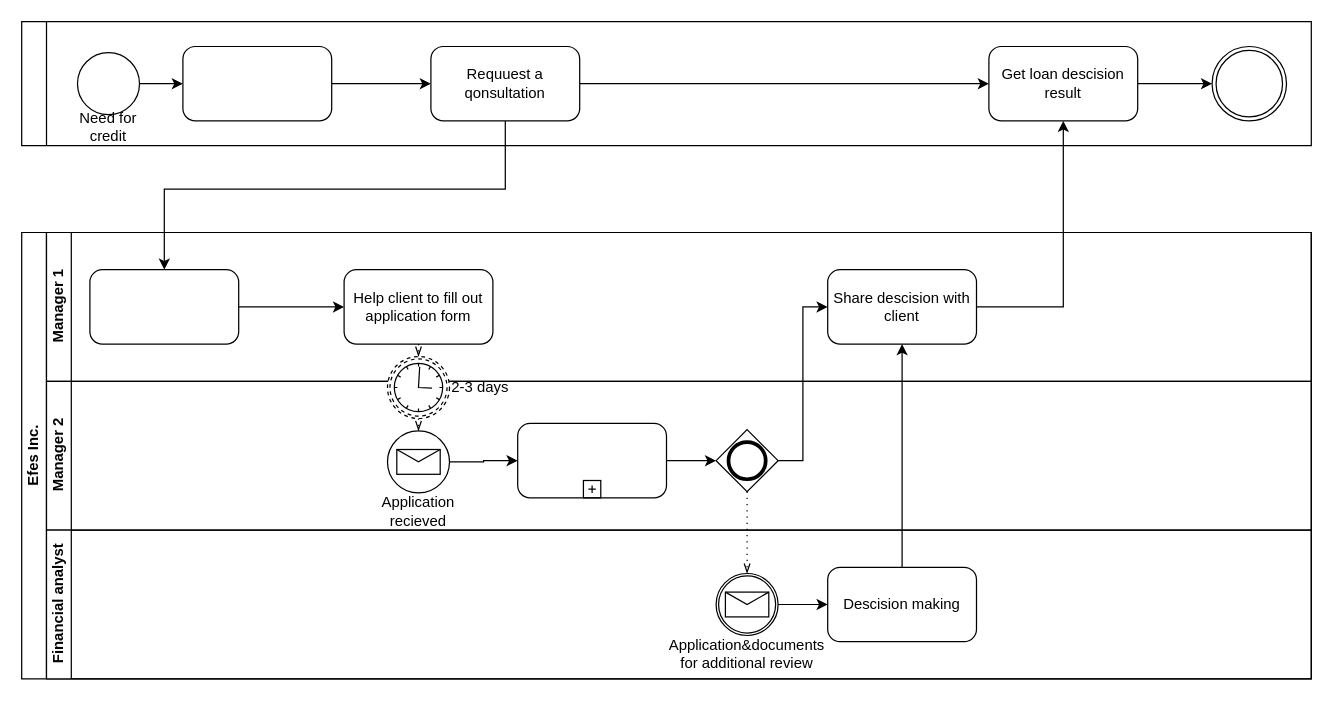
This 1333x701 diagram has some shape labels left out. The shapes that lost their labels are listed below. From the top down, each one's box as (x1, y1, x2, y2) in pixels, then its label:
(182, 45, 332, 121): Visit Company office
(20, 20, 1311, 146): Client
(89, 268, 239, 344): Offer possible loan plans
(516, 422, 666, 498): Descision making basing on documents &application
